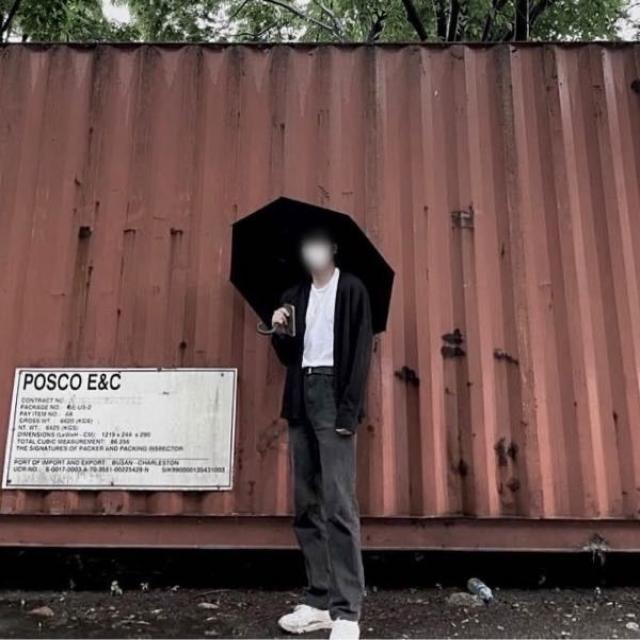cardigan: (274, 264, 372, 432)
denimpants: (288, 369, 368, 622)
